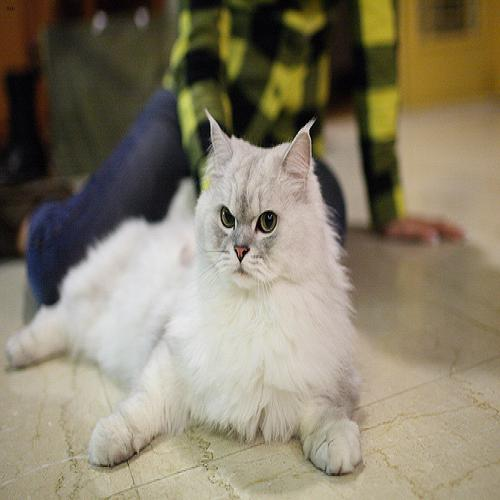persian: (187, 102, 325, 299)
